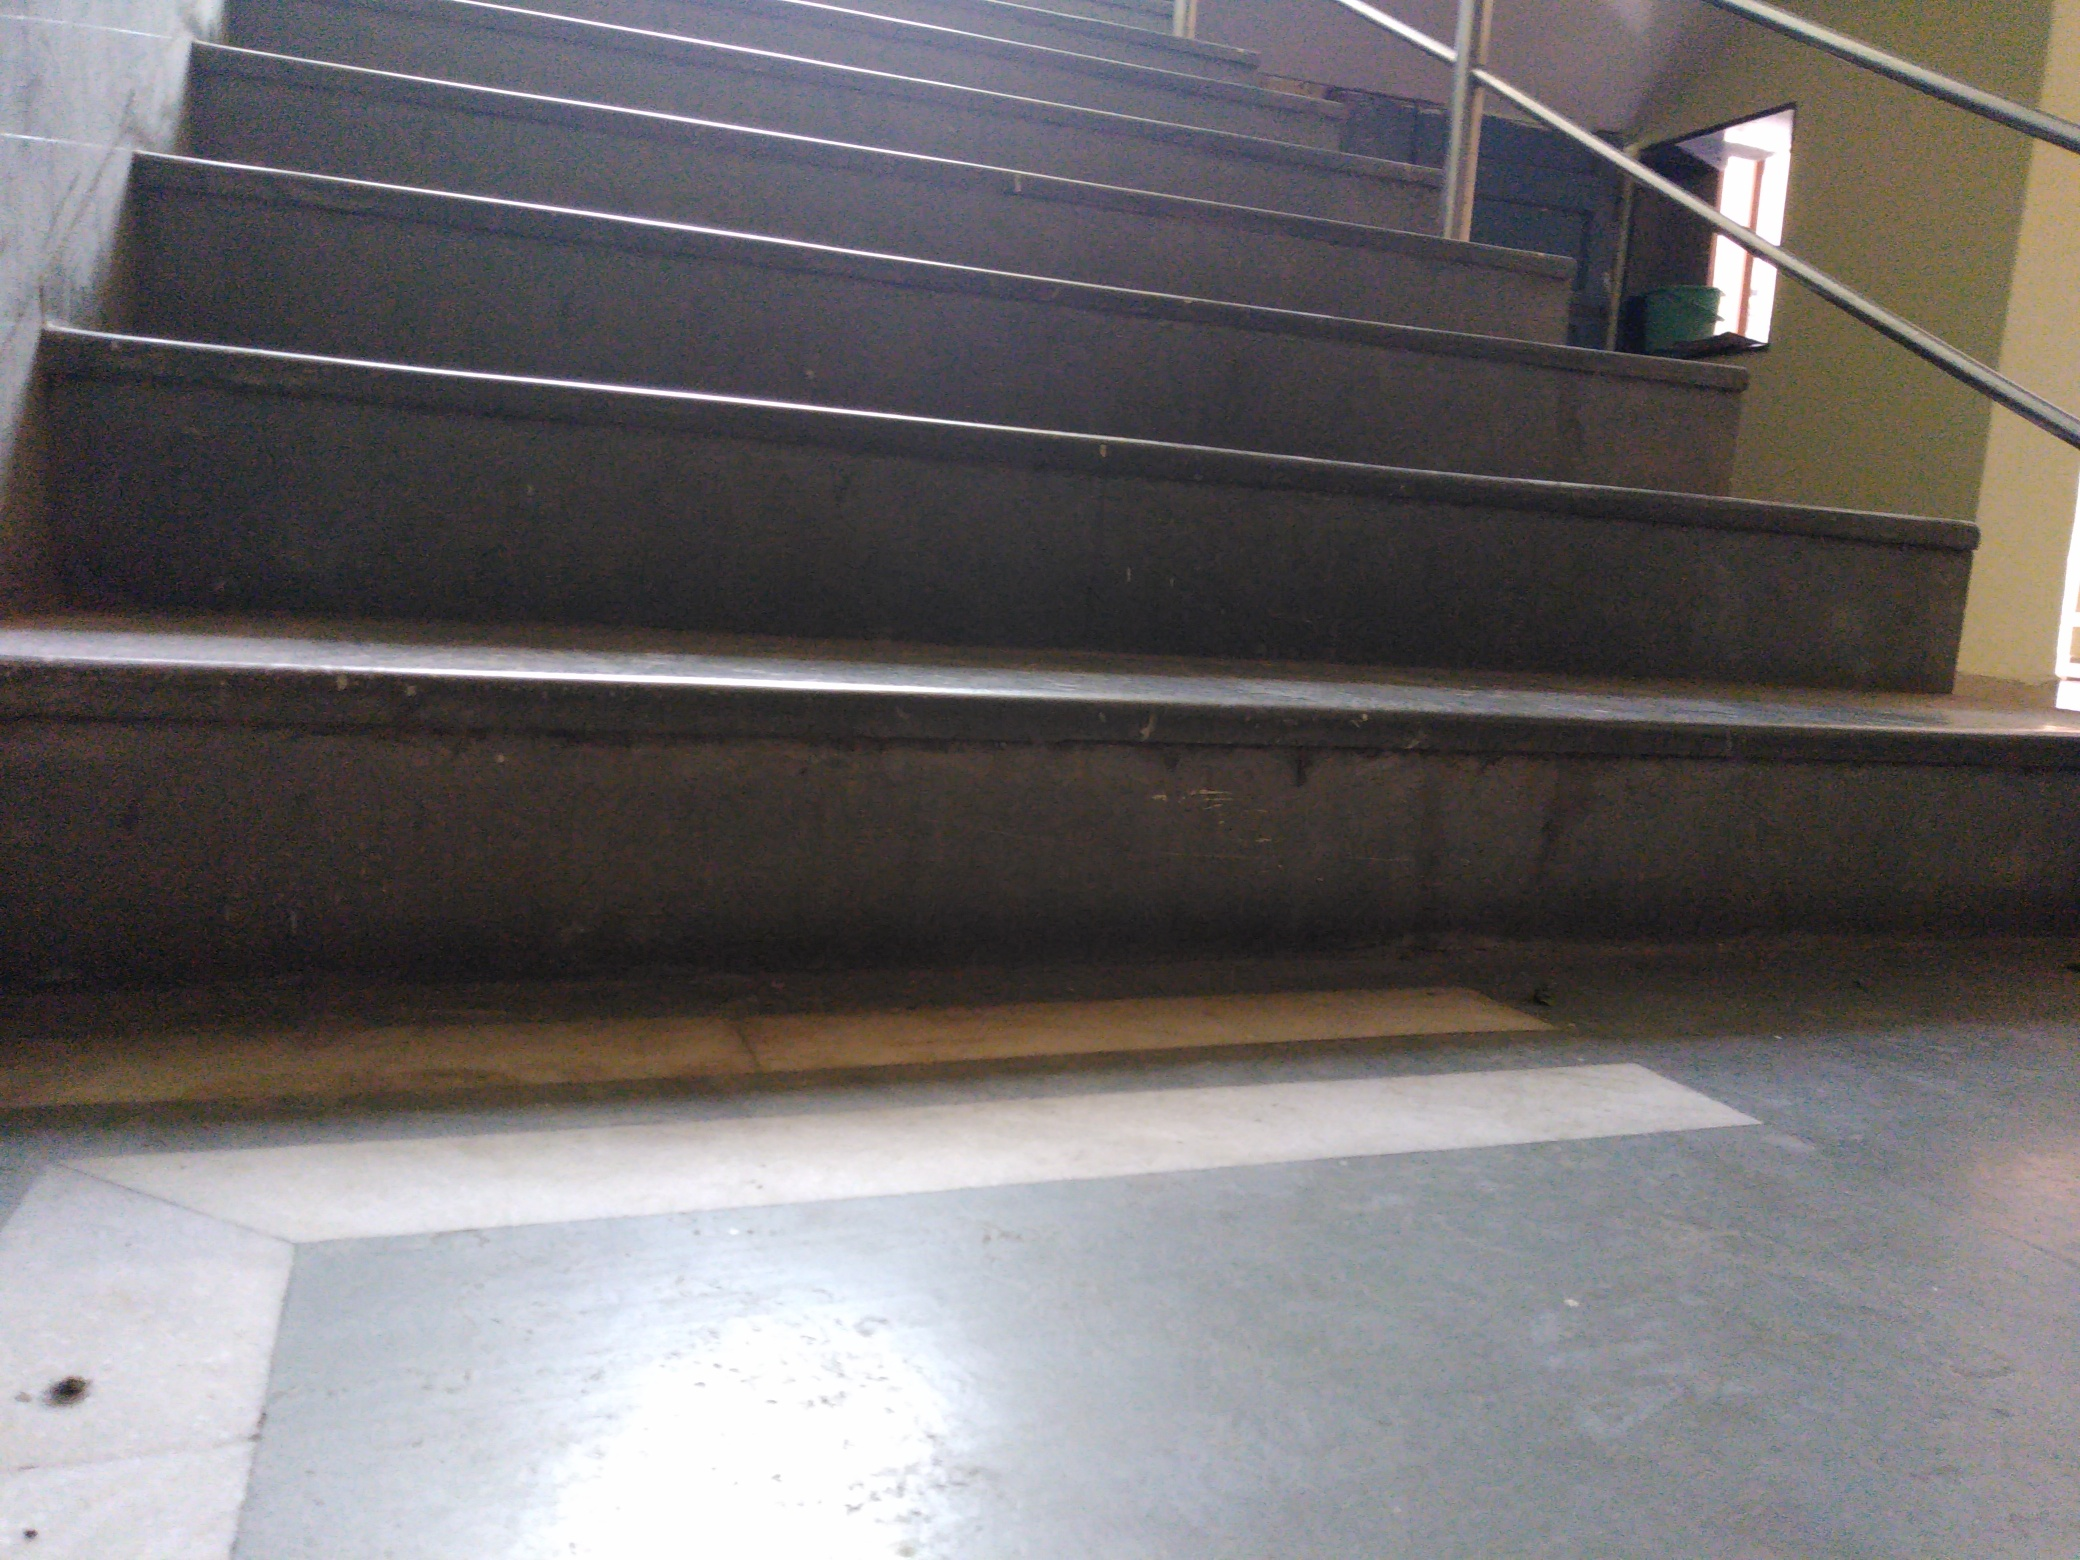stairs_up: (102, 3, 2000, 1034)
